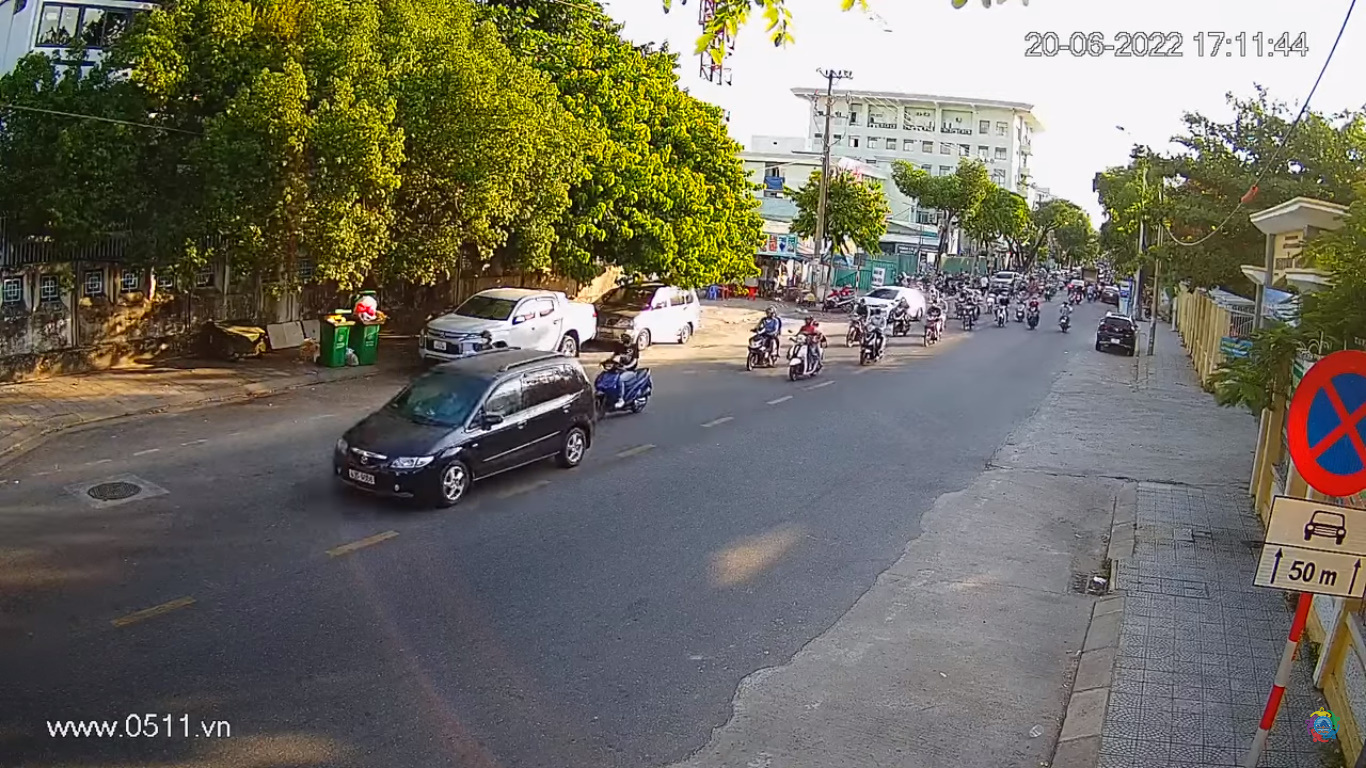car: (337, 350, 603, 504)
